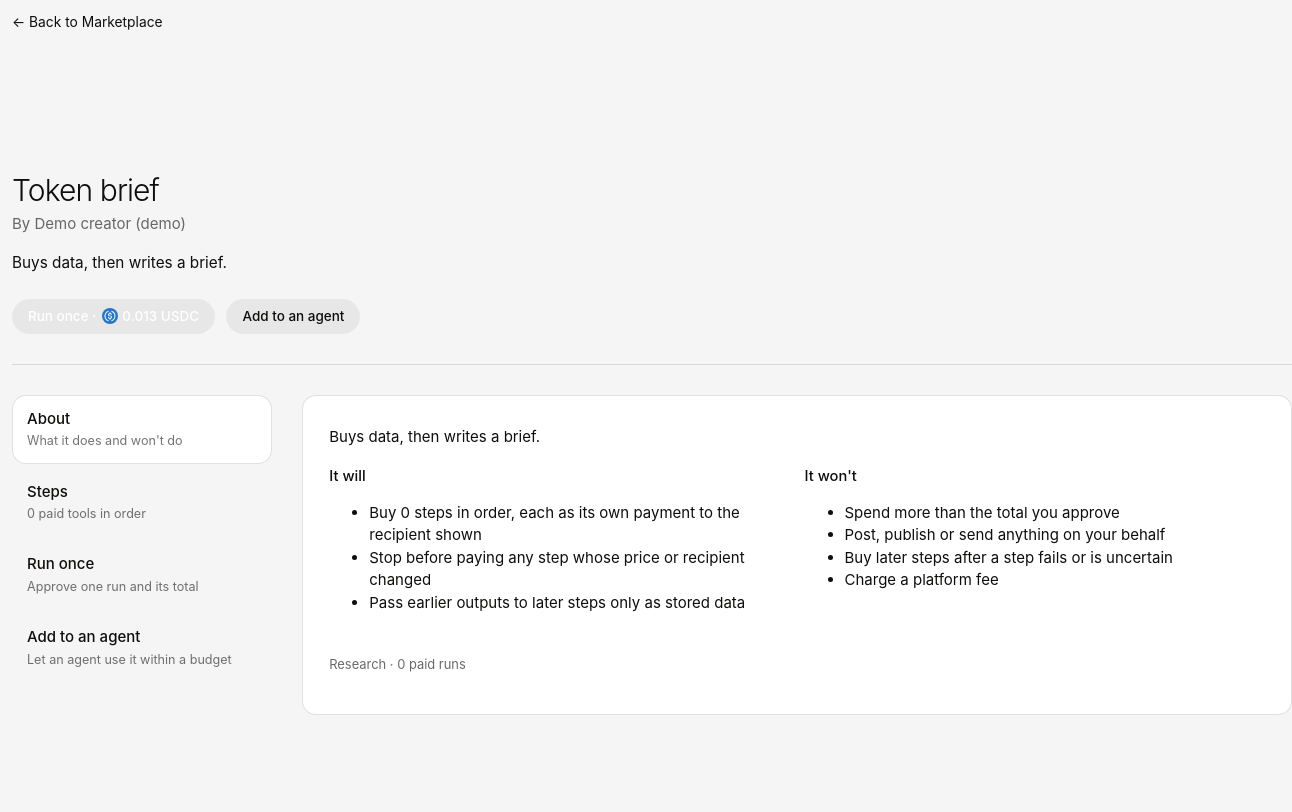
add-to-agent picker › lists only custom agents that are on and allowed to hire
The image size is (1292, 812).
Click the button "Add to an agent Let an agent use it within a budget": (142, 648) [12,614,272,683]
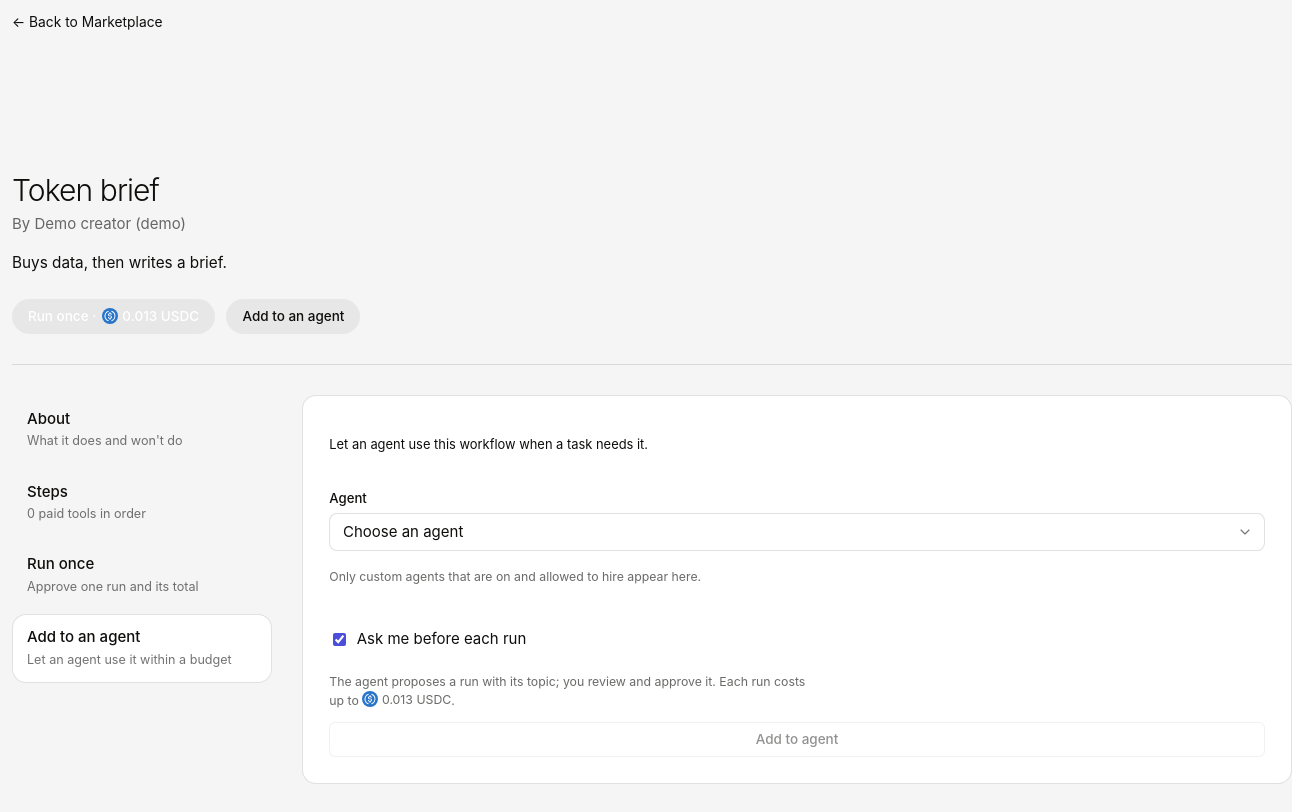
Expected: the text "Only custom agents that are on and allowed to hire appear here" is shown, [329,569,701,584]
Click the button "Choose an agent": (403, 531) [329,513,1265,551]
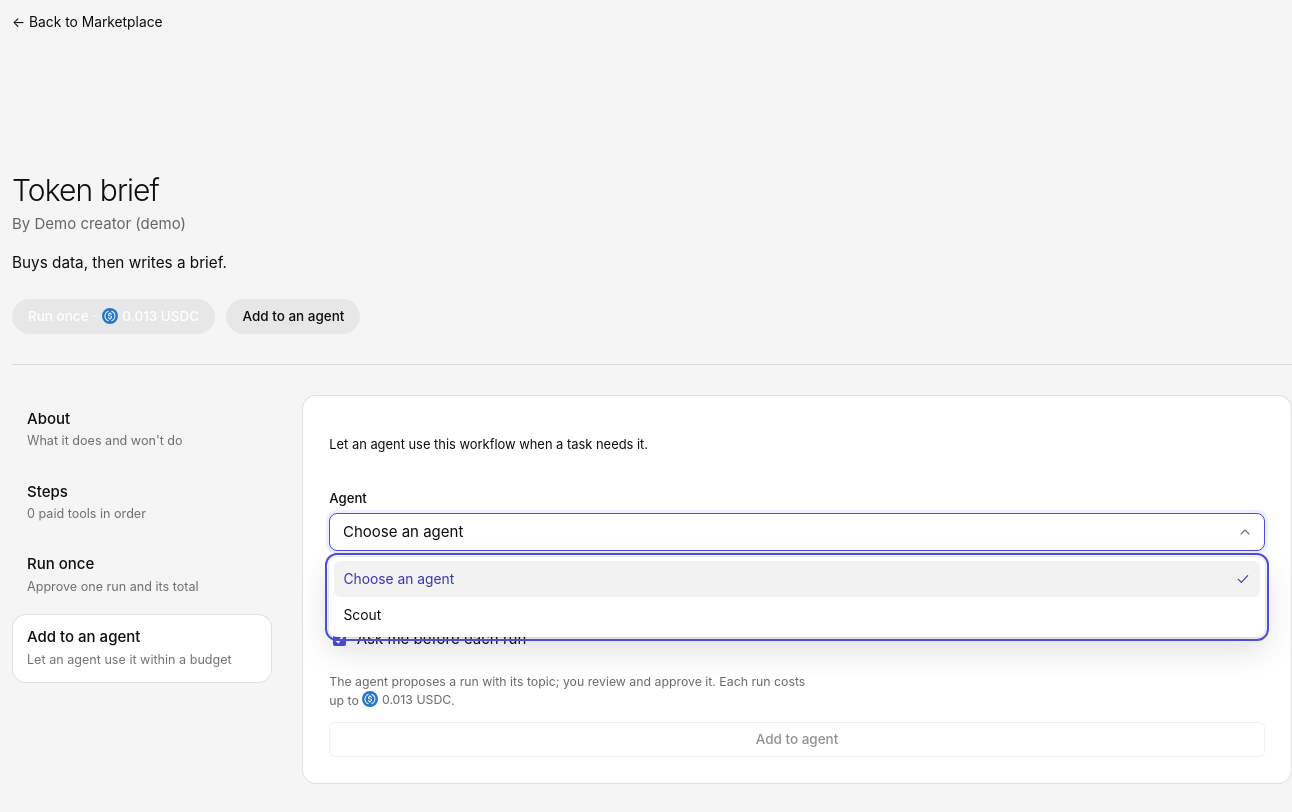
Expected: the options read "Choose an agent", "Scout", in this order, [334,561,1260,597]; [344,606,381,622]
